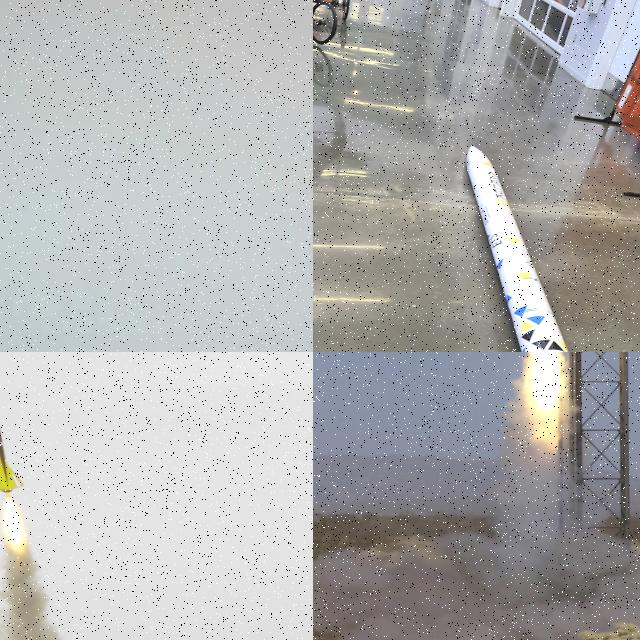Rocket: (466, 144, 568, 352), (0, 352, 26, 493)
